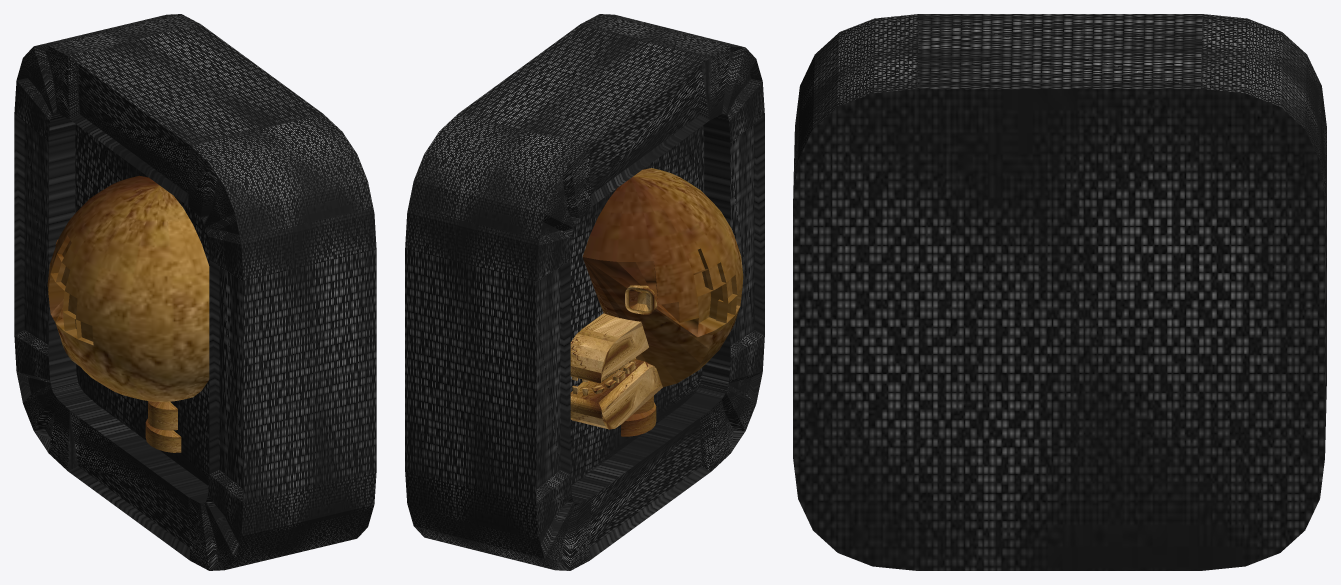
File: RadonObject.DAE
The picture shows the model from 3 angles, left to right: view 1: azimuth 30°, elevation 25°; view 2: azimuth 150°, elevation 25°; view 3: azimuth 270°, elevation 25°; orthographic projection. The views are drawn at different scales.
Visible parts, largest first — view 1: Box001, Sphere001; view 2: Box001, Sphere001; view 3: Box001.
Part boxes in pixels (box(x1,y1,x2,y2)): Box001: box(14, 14, 376, 570); Sphere001: box(47, 175, 209, 452); Box001: box(405, 14, 764, 570); Sphere001: box(570, 168, 743, 436); Box001: box(793, 14, 1326, 570).
Size of the model in its own units: 6.08 by 11.85 by 11.81.
Materials: 2 (2 with a texture image).
